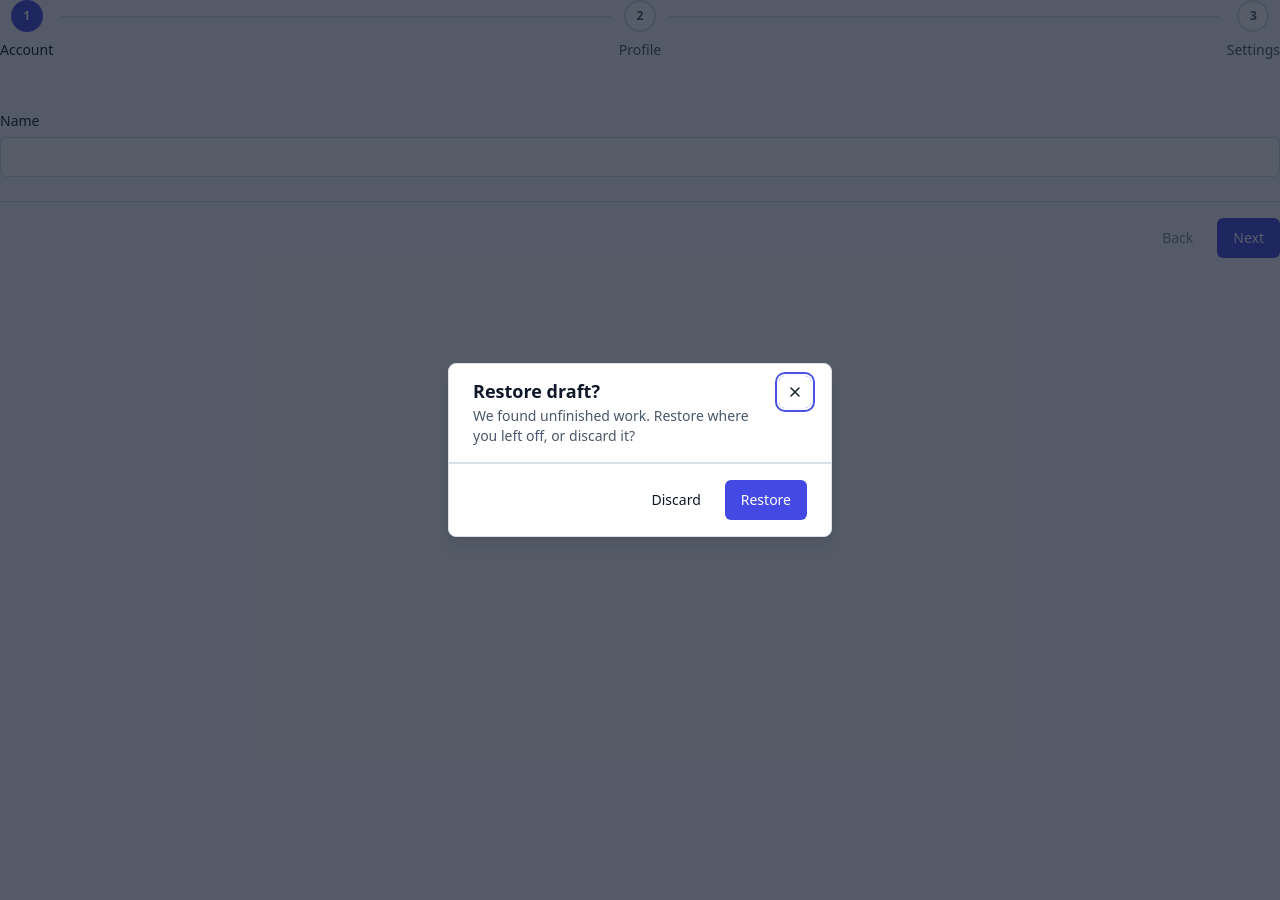
Test case: FormWizard — persistence › Restore loads values, current step, and completed ids
The image size is (1280, 900).
Click the button "Restore".
click(766, 500)  # box x1=725 y1=480 x2=807 y2=520
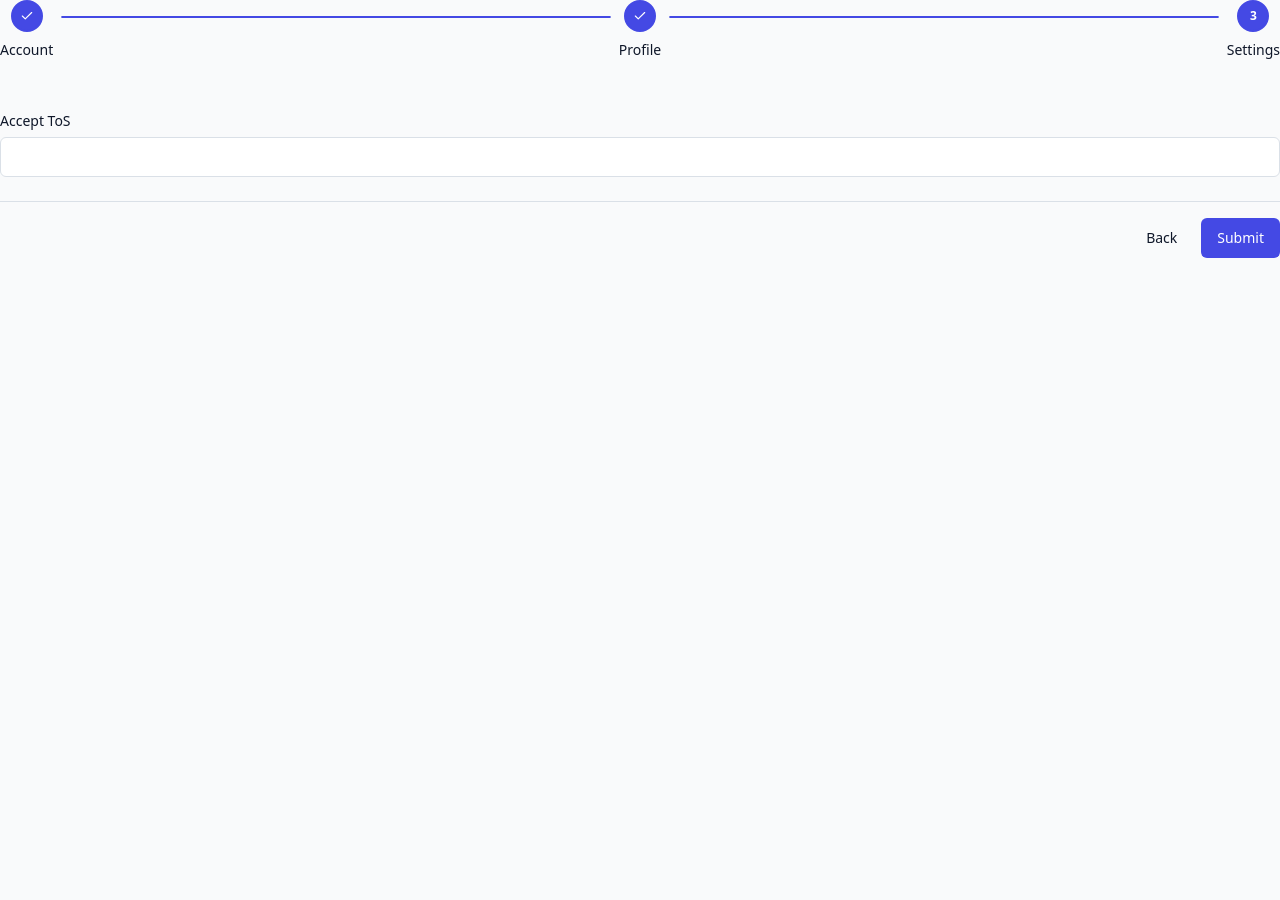
expect the field labelled "Accept ToS" is shown: met, box x1=0 y1=137 x2=1279 y2=177
